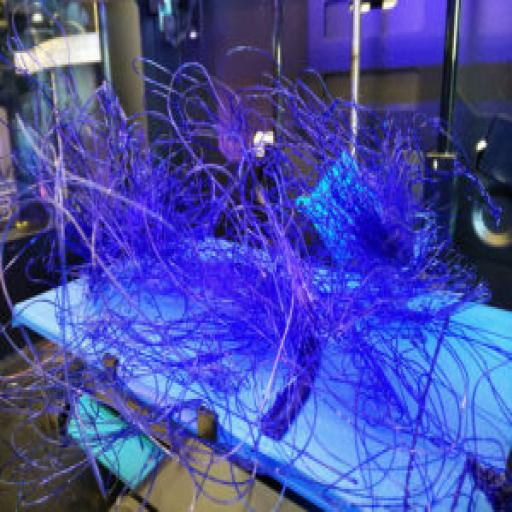spaghetti: (32, 54, 490, 499)
